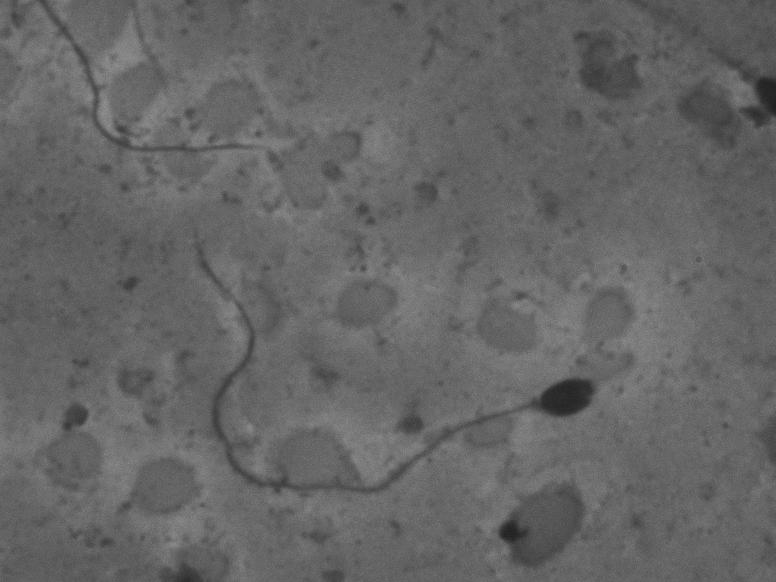Abnormal: (157, 219, 622, 505)
